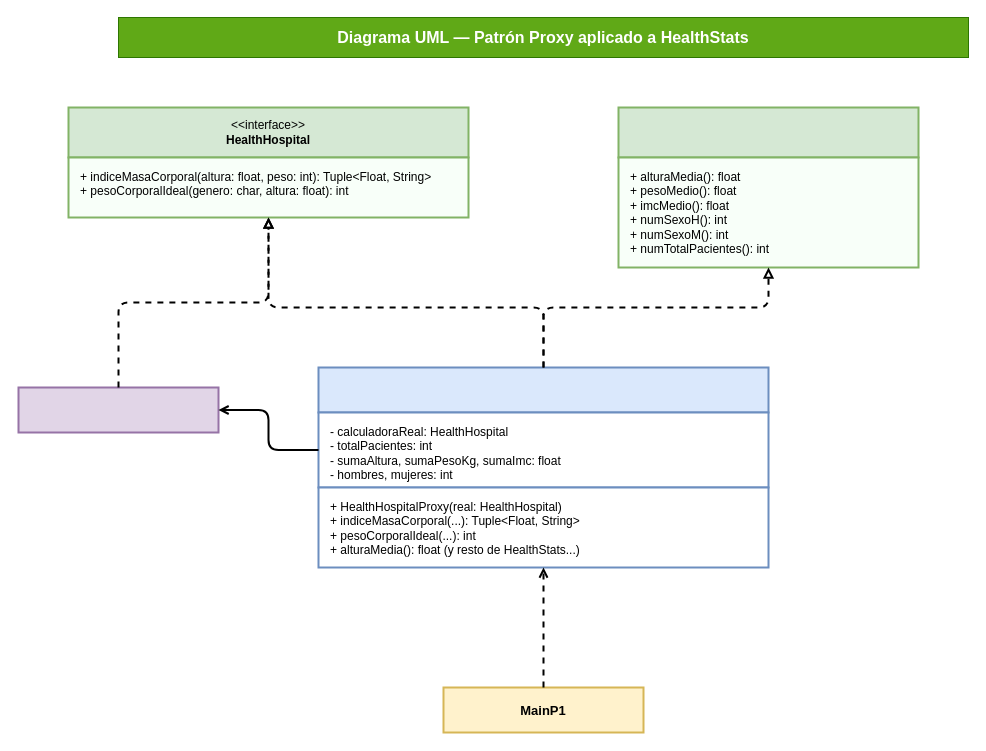
Some shapes in this 986 by 751 pixel diagram are drawn without their labels. The box of each missing label's shape, as (x1, y1, x2, y2) in pixels:
<<interface>> HealthStats: (617, 106, 919, 158)
HealthHospitalAdapter: (17, 386, 219, 433)
HealthHospitalProxy: (317, 366, 769, 413)
